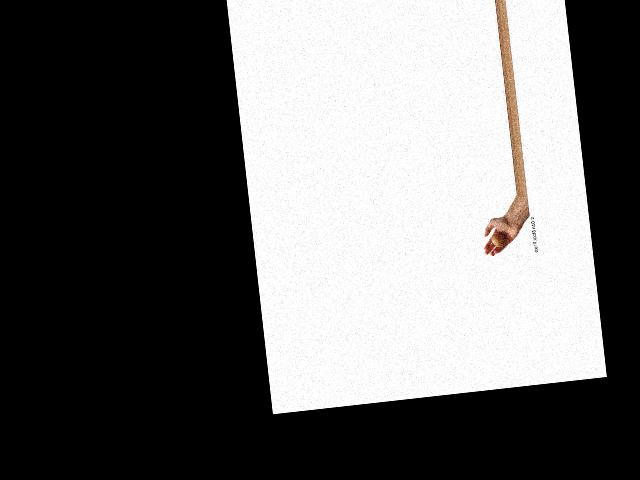egg: (491, 233, 506, 248)
